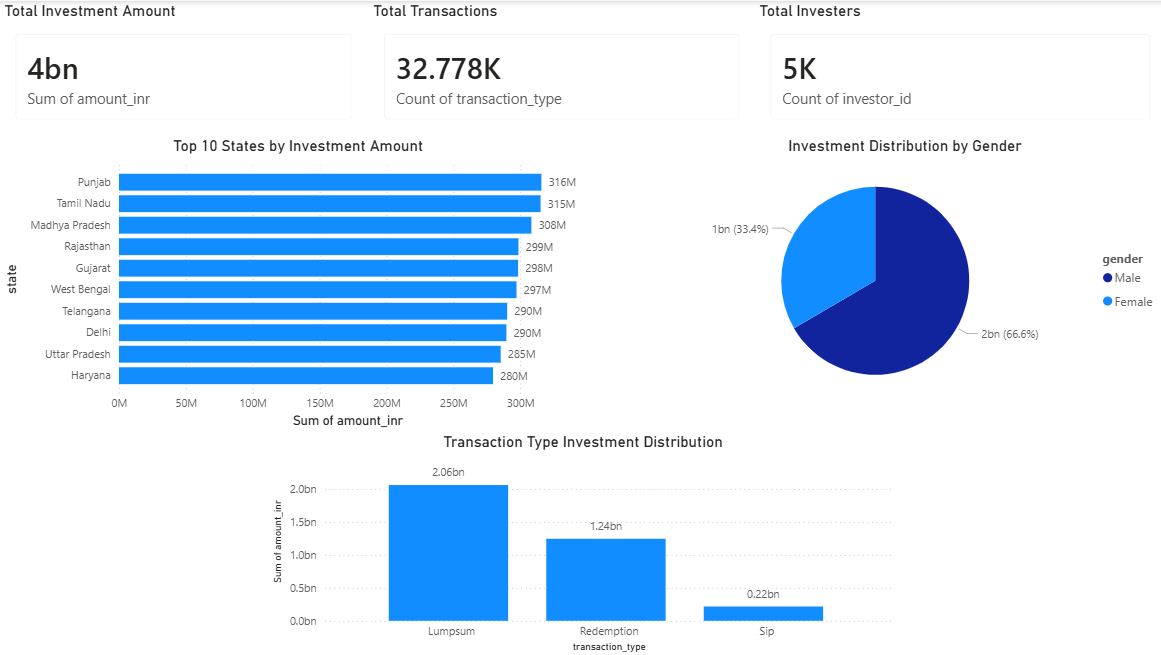

Layout of this report page (visuals, bound fields, positions):
{"tool":"powerbi","page":{"name":"Page 1","canvas":[1280,720],"ordinal":0},"visuals":[{"type":"clusteredBarChart","title":"Top 10 States by Investment Amount","fields":{"Y":["Sum(08_investor_transactions_clean.amount_inr)"],"Category":["08_investor_transactions_clean.state"]},"box":[0,148.2,654.5,325.2],"z":0},{"type":"clusteredColumnChart","title":"Transaction Type Investment Distribution","fields":{"Category":["08_investor_transactions_clean.transaction_type"],"Y":["Sum(08_investor_transactions_clean.amount_inr)"]},"box":[295,473.4,690.2,247],"z":1},{"type":"cardVisual","title":"Total Transactions","fields":{"Data":["CountNonNull(08_investor_transactions_clean.transaction_type)"]},"box":[404.8,0,424,148.2],"z":2},{"type":"cardVisual","title":"Total Investers","fields":{"Data":["Count(08_investor_transactions_clean.investor_id)"]},"box":[828.8,0,451.5,148.2],"z":3},{"type":"cardVisual","title":"Total Investment Amount","fields":{"Data":["Sum(08_investor_transactions_clean.amount_inr)"]},"box":[0,0,404.8,148.2],"z":4},{"type":"pieChart","title":"Investment Distribution by Gender","fields":{"Category":["08_investor_transactions_clean.gender"],"Y":["Sum(08_investor_transactions_clean.amount_inr)"]},"box":[706.7,148.2,573.6,299.1],"z":5}]}

Visuals, with their boxes in screenshot pixels (x1, y1, x2, y2), scaled from the page's 1280x720 canvas onto the 1161x655 screenshot:
"Top 10 States by Investment Amount" clusteredBarChart: [left=0, top=135, right=594, bottom=431]
"Transaction Type Investment Distribution" clusteredColumnChart: [left=268, top=431, right=894, bottom=654]
"Total Transactions" cardVisual: [left=367, top=0, right=752, bottom=135]
"Total Investers" cardVisual: [left=752, top=0, right=1160, bottom=135]
"Total Investment Amount" cardVisual: [left=0, top=0, right=367, bottom=135]
"Investment Distribution by Gender" pieChart: [left=641, top=135, right=1160, bottom=407]
